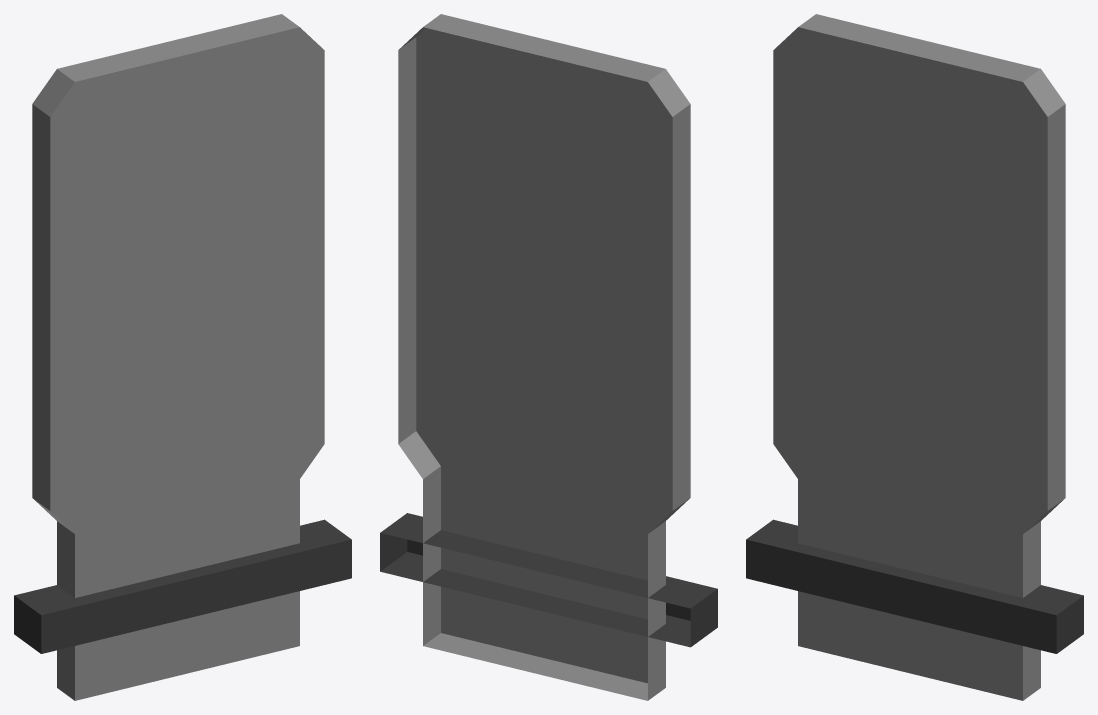
Rendered from panel_C.FBX.
3 views of the same model, side by side, from view 1: azimuth 30°, elevation 25°; view 2: azimuth 150°, elevation 25°; view 3: azimuth 330°, elevation 25° (orthographic).
Parts seen in each view (by area): view 1: panel_C; view 2: panel_C; view 3: panel_C.
Boxes of the visible parts, box(x1,y1,x2,y2) form: panel_C: box(14, 14, 351, 700); panel_C: box(380, 14, 717, 700); panel_C: box(746, 14, 1083, 700).
Size of the model in its own units: 19.48 by 37.1 by 2.95.
